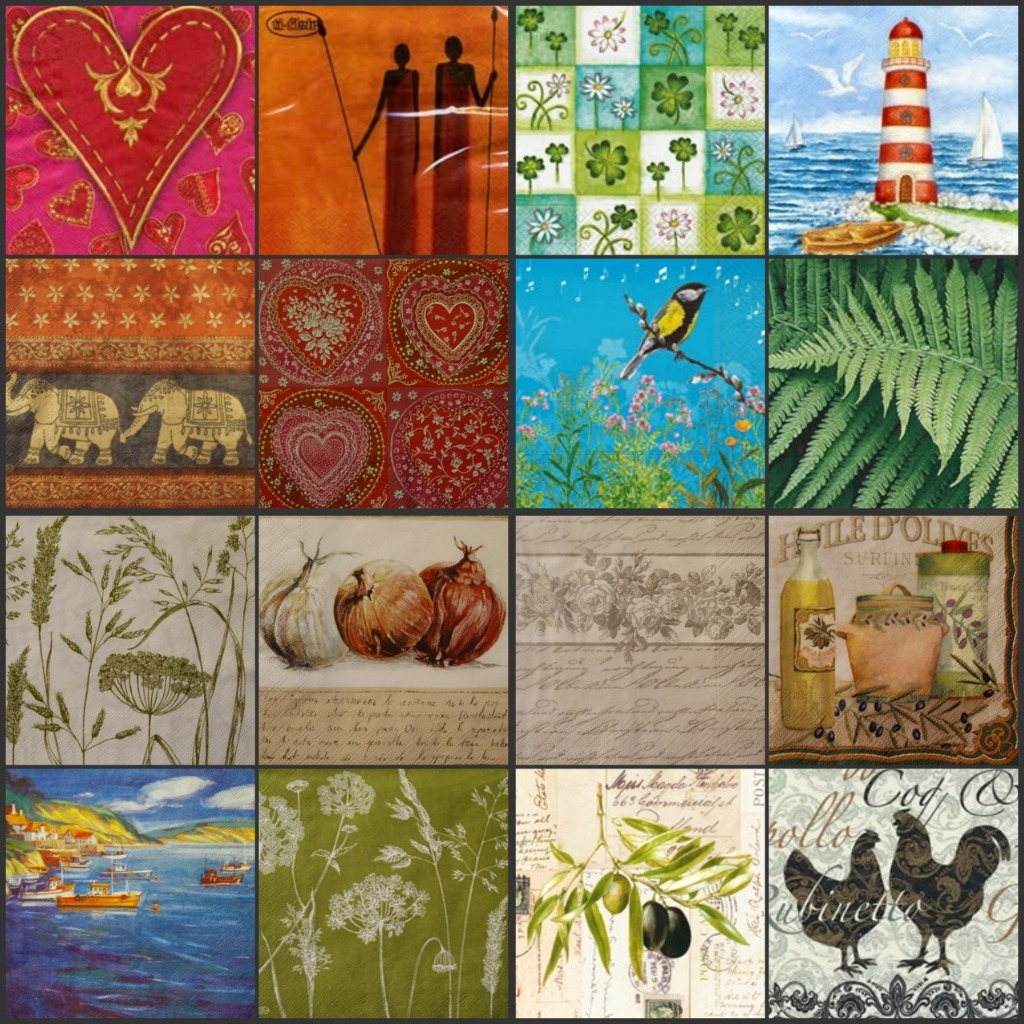chicken: (890, 803, 1006, 987), (774, 825, 893, 973)
